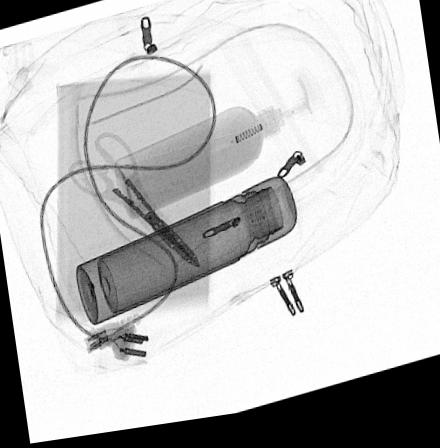Scissors: (68, 133, 201, 273)
